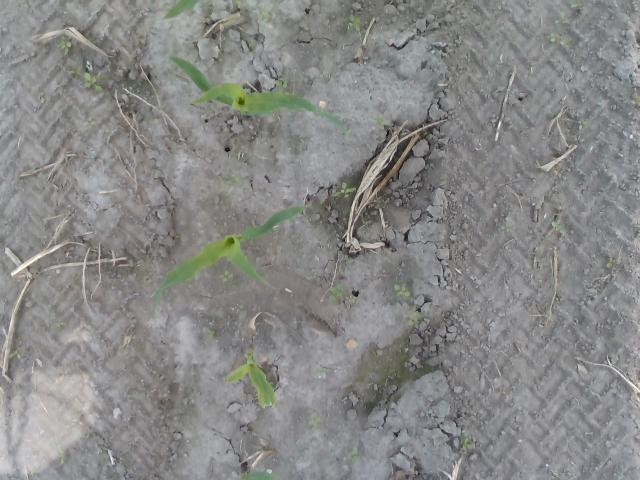Maize: (150, 205, 310, 322), (166, 56, 349, 137), (224, 352, 276, 407), (162, 0, 200, 20), (238, 471, 278, 480)
Weeds: (330, 182, 358, 199), (83, 72, 102, 94), (547, 32, 573, 48), (326, 284, 346, 304), (58, 36, 74, 59), (346, 446, 361, 466), (393, 284, 412, 298), (312, 365, 332, 378), (224, 174, 242, 188), (550, 222, 566, 236), (408, 310, 420, 328), (570, 1, 585, 14), (257, 11, 272, 24), (349, 16, 361, 32), (274, 77, 288, 90), (556, 16, 574, 26), (376, 118, 389, 131), (461, 436, 471, 452), (500, 222, 512, 234), (307, 416, 320, 427), (578, 118, 588, 132), (631, 93, 640, 108), (203, 328, 214, 340), (220, 271, 232, 282), (83, 118, 96, 128), (345, 295, 355, 304), (605, 260, 614, 270)
